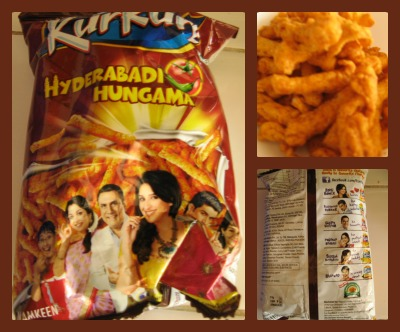kurkure: (44, 10, 201, 57)
plastic: (23, 18, 238, 316), (262, 174, 372, 322)
wrapper: (46, 57, 222, 311)
